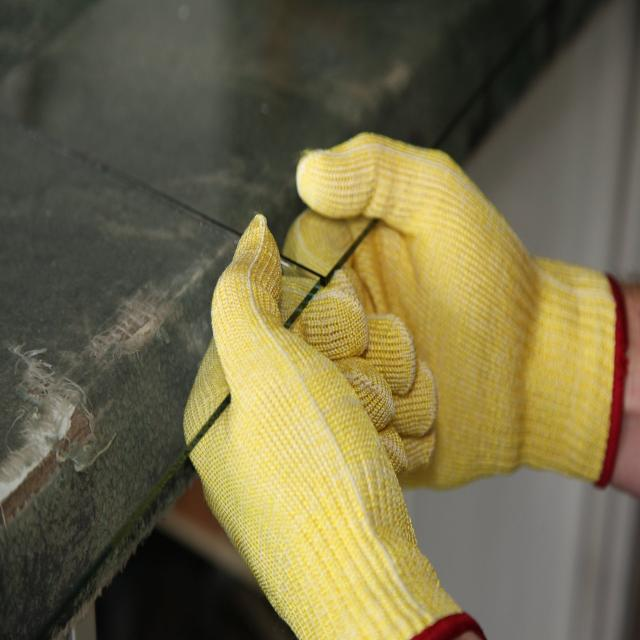gloves: (182, 213, 491, 640), (276, 132, 627, 490)
